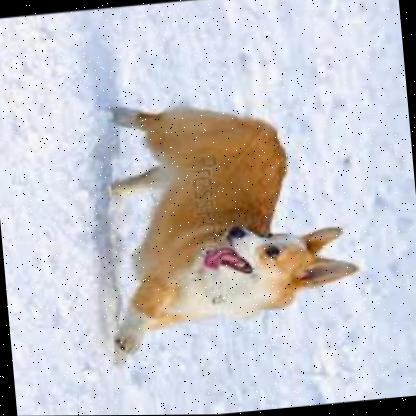dog: (93, 82, 365, 362)
